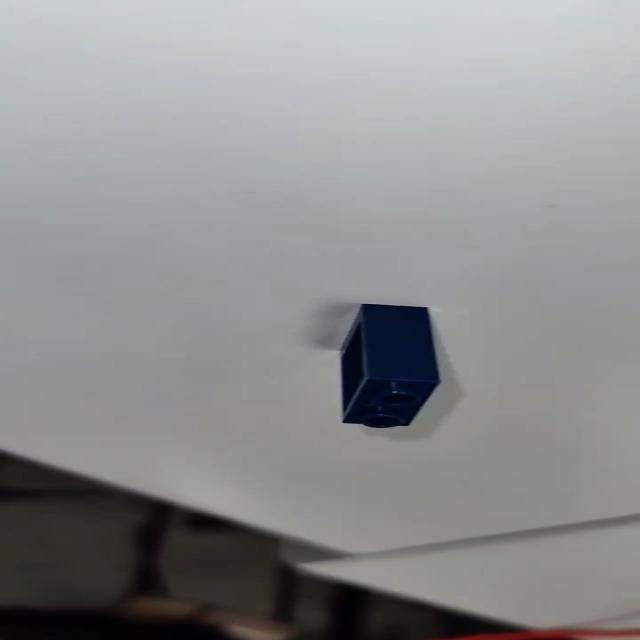W2x1x2: (323, 298, 445, 434)
